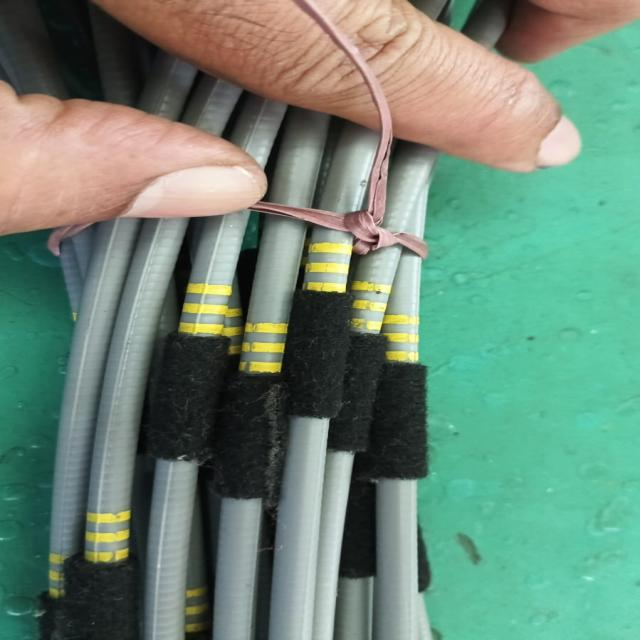yellow: (82, 511, 132, 563), (186, 284, 232, 338), (243, 322, 286, 378), (350, 281, 388, 338), (305, 243, 347, 292), (384, 315, 423, 364)
